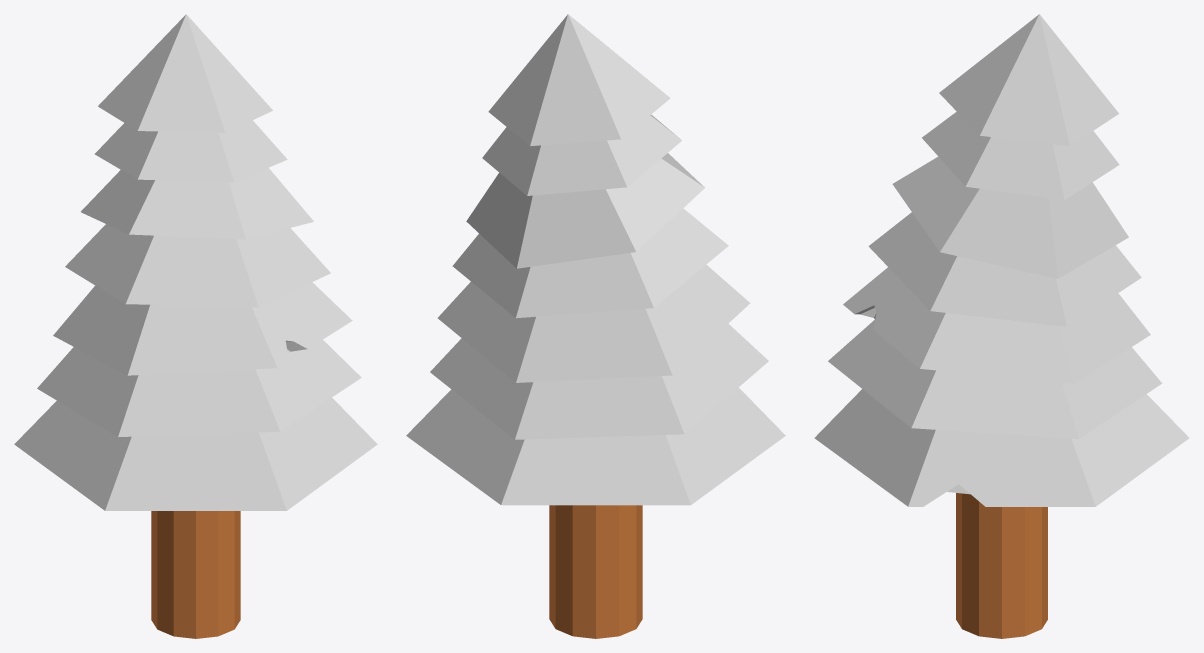
File: tree_02.fbx
3 views of the same model, side by side, from view 1: azimuth 30°, elevation 25°; view 2: azimuth 150°, elevation 25°; view 3: azimuth 270°, elevation 25° (orthographic). The views are drawn at different scales.
Parts seen in each view (by area): view 1: Cone, Cone.001, Cone.002, Cone.003, Cone.006, Cone.004, Cylinder, Cone.005; view 2: Cone, Cone.002, Cone.001, Cone.004, Cone.003, Cone.006, Cylinder, Cone.005; view 3: Cone, Cone.001, Cone.002, Cone.004, Cone.003, Cone.006, Cylinder, Cone.005.
Part boxes in pixels (bbox=[...]): Cone: bbox=[14, 397, 377, 510]; Cone.001: bbox=[37, 339, 361, 436]; Cone.002: bbox=[53, 282, 352, 375]; Cone.003: bbox=[65, 224, 330, 307]; Cone.006: bbox=[98, 14, 272, 132]; Cone.004: bbox=[81, 168, 313, 239]; Cylinder: bbox=[151, 511, 240, 638]; Cone.005: bbox=[94, 120, 287, 182]; Cone: bbox=[406, 387, 785, 505]; Cone.002: bbox=[437, 264, 750, 382]; Cone.001: bbox=[430, 324, 768, 439]; Cone.004: bbox=[466, 153, 704, 268]; Cone.003: bbox=[452, 208, 728, 318]; Cone.006: bbox=[488, 14, 670, 146]; Cylinder: bbox=[549, 505, 642, 638]; Cone.005: bbox=[482, 114, 681, 195]; Cone: bbox=[814, 389, 1189, 506]; Cone.001: bbox=[828, 320, 1162, 439]; Cone.002: bbox=[843, 267, 1150, 383]; Cone.004: bbox=[892, 156, 1128, 278]; Cone.003: bbox=[868, 212, 1141, 326]; Cone.006: bbox=[939, 14, 1118, 145]; Cylinder: bbox=[956, 493, 1047, 638]; Cone.005: bbox=[922, 111, 1119, 200].
Size of the model in its own units: 173 by 358 by 200.
